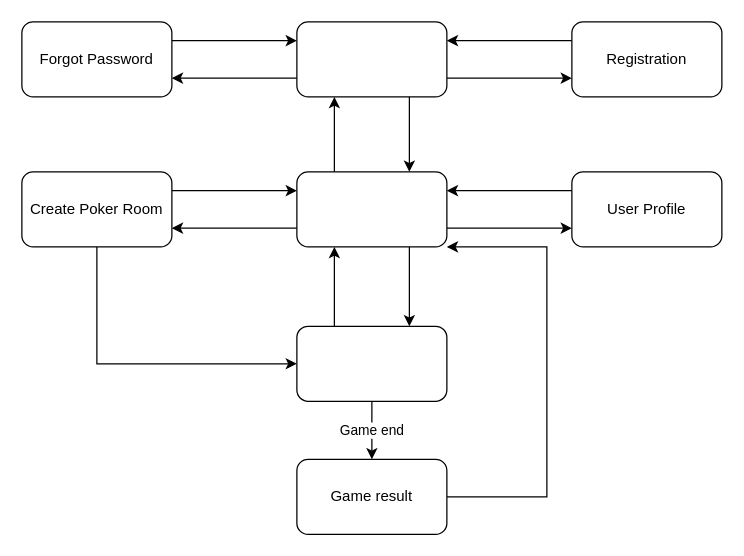
This 744x556 diagram has some shape labels left out. Here are the shapes that lost their labels. From the top down, the centre of each, then its label:
pixel 371 59: Login
pixel 371 209: Game lobby
pixel 371 363: Poker Room
